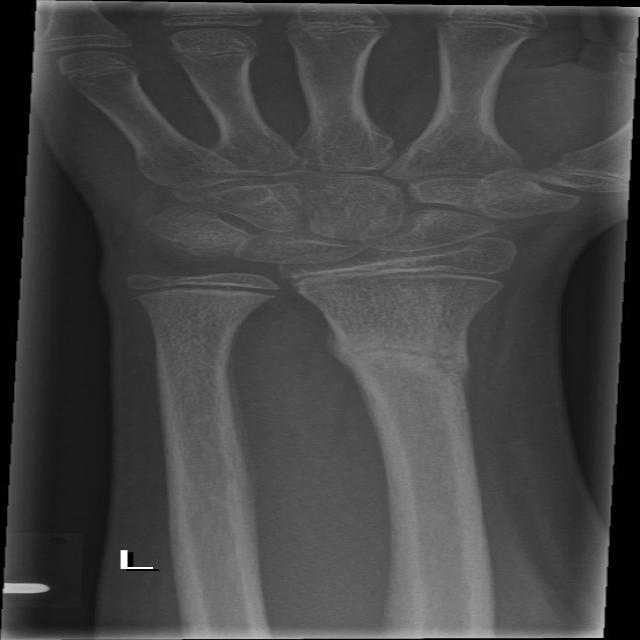fracture: (280, 264, 515, 294), (320, 340, 478, 372), (122, 276, 292, 304)
